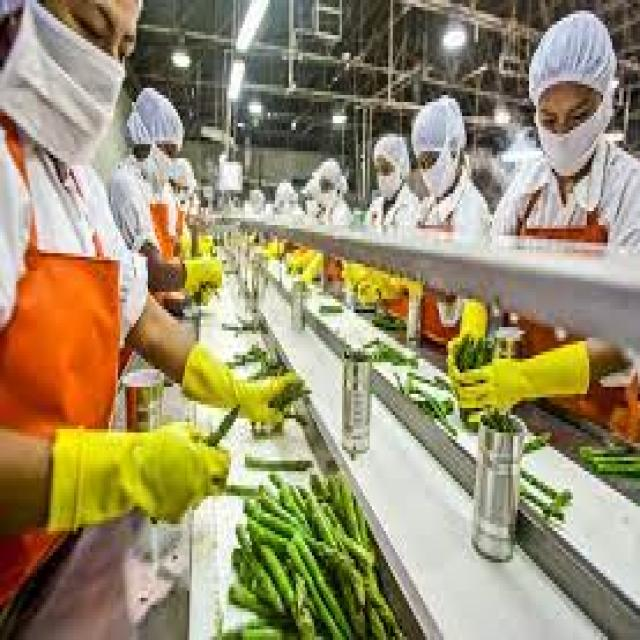Organik: (227, 460, 396, 637), (434, 317, 526, 440)
